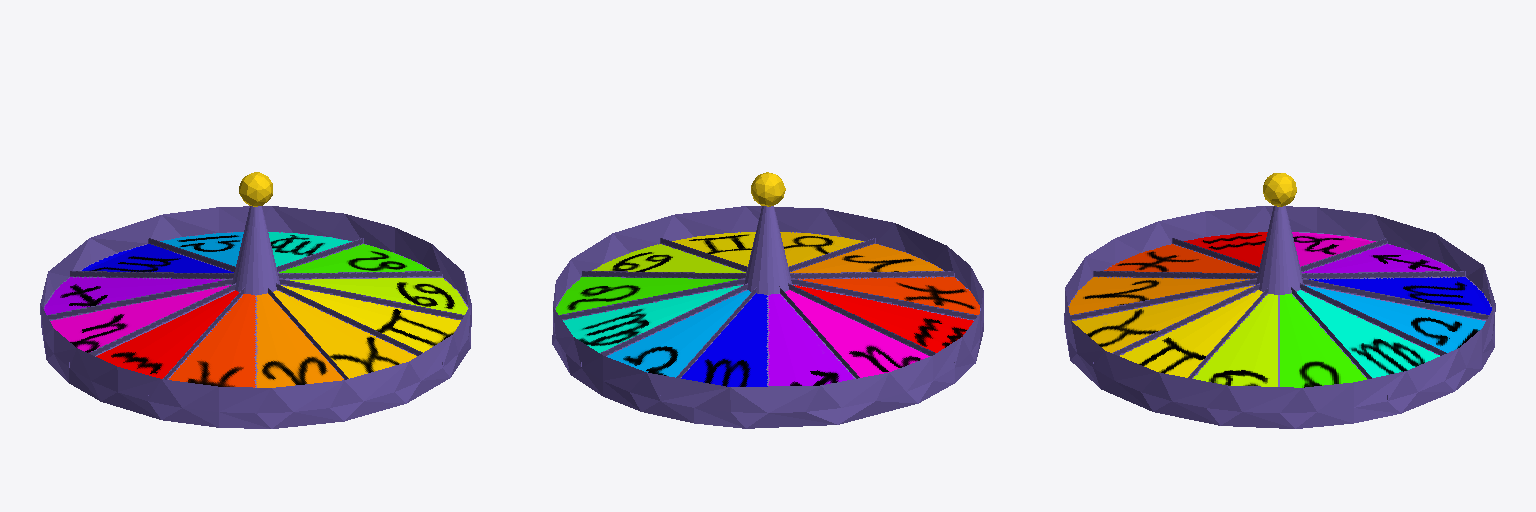
The picture shows the model from 3 angles: view 1: azimuth 30°, elevation 25°; view 2: azimuth 150°, elevation 25°; view 3: azimuth 270°, elevation 25°; orthographic projection.
Visible parts, largest first — view 1: Cylinder.001_Cylinder.000; view 2: Cylinder.001_Cylinder.000; view 3: Cylinder.001_Cylinder.000.
Boxes of the visible parts, x1,y1,x2,y2 form: Cylinder.001_Cylinder.000: [40, 172, 471, 428]; Cylinder.001_Cylinder.000: [552, 172, 983, 428]; Cylinder.001_Cylinder.000: [1064, 173, 1495, 428].
Bounding box in the file's own units: 5 × 2.1 × 5.
Materials: 1 (1 with a texture image).